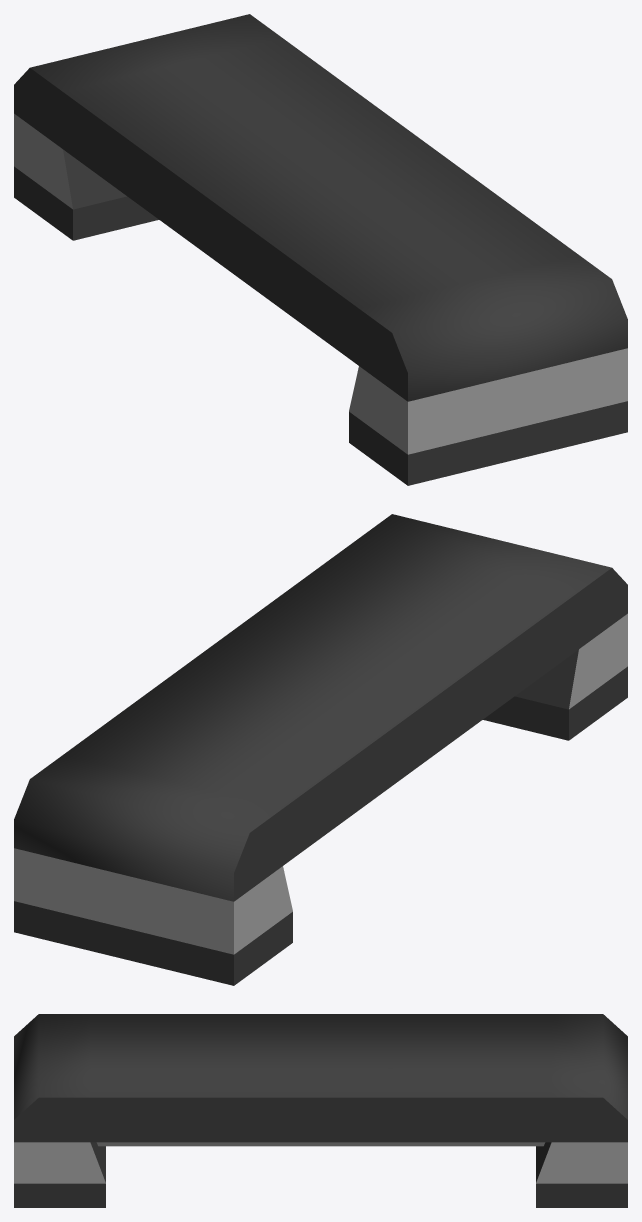
File: flat_bench.glb
3 renders of one model, top to bottom at view 1: azimuth 30°, elevation 25°; view 2: azimuth 150°, elevation 25°; view 3: azimuth 270°, elevation 25°, orthographic. The views are drawn at different scales.
Parts seen in each view (by area): view 1: Flat_Bench; view 2: Flat_Bench; view 3: Flat_Bench.
Part boxes in pixels (x1,y1,x2,y2): Flat_Bench: (14,14,627,485); Flat_Bench: (14,514,627,985); Flat_Bench: (14,1014,627,1207).
Size of the model in its own units: 0.3159 by 0.1941 by 0.98.
1 material, 1 textured.
